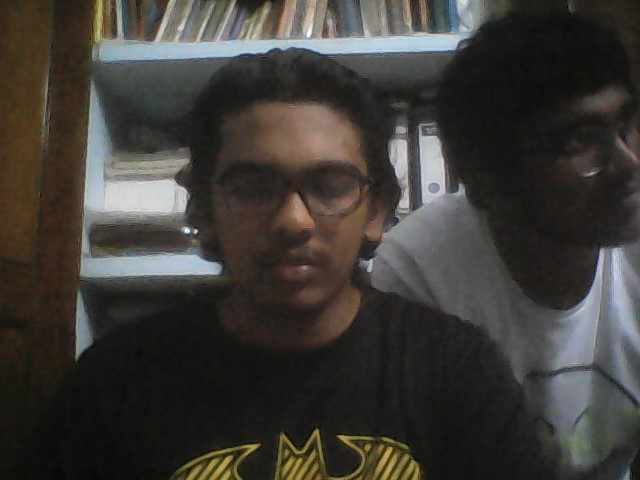person: (37, 48, 523, 480), (401, 1, 640, 317)
